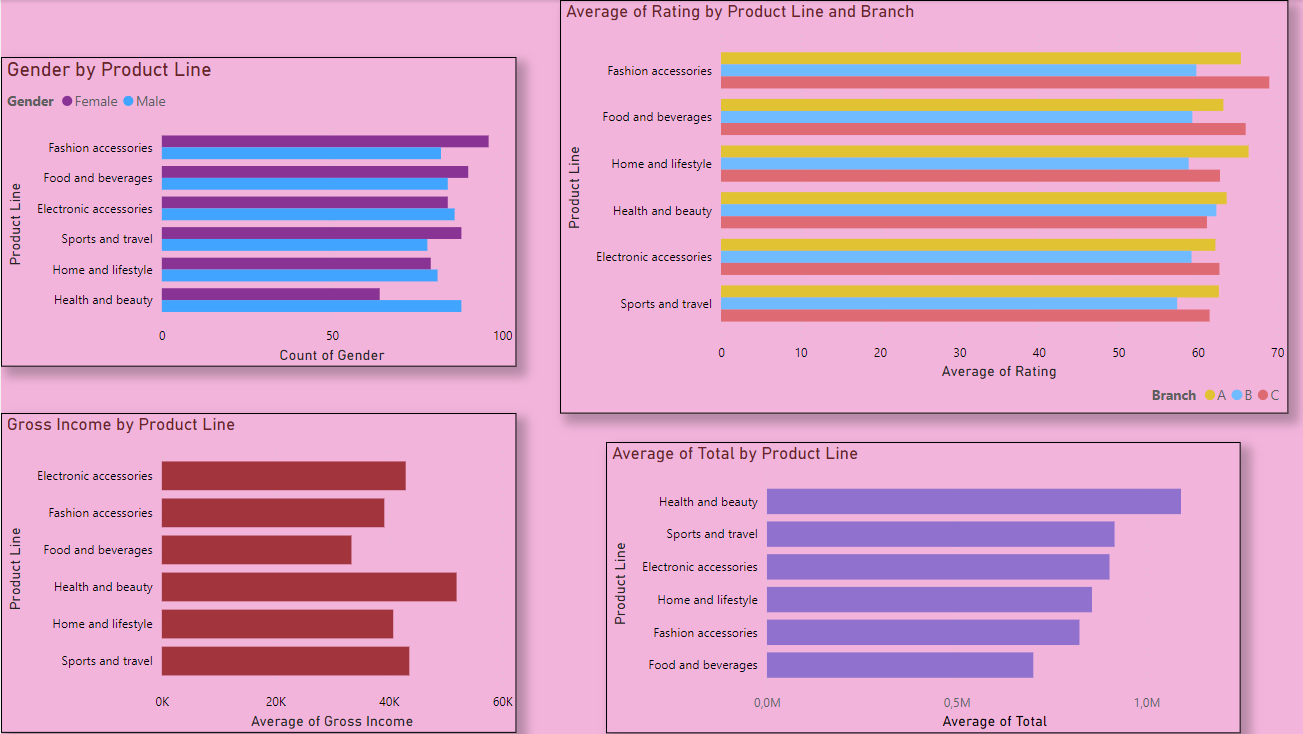

The page's visual inventory and layout, read from the dashboard file:
{"tool":"powerbi","page":{"name":"Page 1","canvas":[1280,720],"ordinal":0},"visuals":[{"type":"clusteredBarChart","title":"Gender by Product Line","fields":{"Category":["supermarket_sales.Product line"],"Y":["CountNonNull(supermarket_sales.Gender)"],"Series":["supermarket_sales.Gender"]},"box":[0,55.8,506.4,304],"z":0},{"type":"clusteredBarChart","title":"Gross Income by Product Line","fields":{"Category":["supermarket_sales.Product Line"],"Y":["Avg(supermarket_sales.gross income)"]},"box":[0,405.7,506.4,314],"z":1},{"type":"clusteredBarChart","fields":{"Y":["Avg(supermarket_sales.Rating)"],"Series":["supermarket_sales.Branch"],"Category":["supermarket_sales.Product Line"]},"box":[548.3,0,714.8,405.7],"z":2},{"type":"clusteredBarChart","fields":{"Category":["supermarket_sales.Product Line"],"Y":["Avg(supermarket_sales.Total)"]},"box":[594.1,433.6,623.1,286.1],"z":3}]}

Visuals, with their boxes in screenshot pixels (x1, y1, x2, y2), scaled from the page's 1280x720 canvas onto the 1303x734 screenshot:
"Gender by Product Line" clusteredBarChart: locate(0, 57, 515, 367)
"Gross Income by Product Line" clusteredBarChart: locate(0, 414, 515, 733)
clusteredBarChart - Avg(supermarket_sales.Rating) x supermarket_sales.Branch: locate(558, 0, 1286, 414)
clusteredBarChart - supermarket_sales.Product Line x Avg(supermarket_sales.Total): locate(605, 442, 1239, 733)
